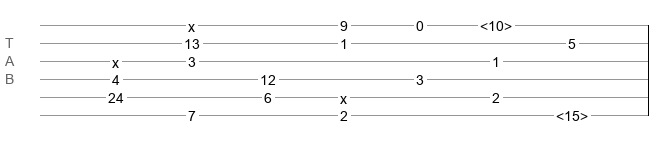0: (416, 18, 424, 28)
1: (340, 36, 348, 46), (492, 54, 500, 64)
12: (260, 72, 276, 82)
13: (184, 36, 200, 46)
2: (340, 108, 348, 118), (492, 90, 500, 100)
24: (108, 90, 124, 100)
3: (188, 54, 196, 64), (416, 72, 424, 82)
4: (112, 72, 120, 82)
5: (568, 36, 576, 46)
6: (264, 90, 272, 100)
7: (188, 108, 196, 118)
9: (340, 18, 348, 28)
harmonic: (480, 18, 512, 28), (556, 108, 588, 118)
x: (112, 55, 119, 63), (188, 19, 195, 27), (340, 91, 347, 99)
